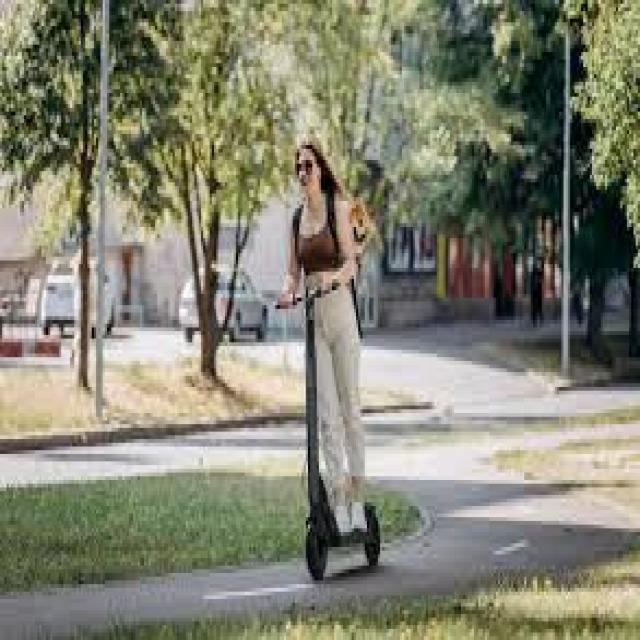non-helmet: (261, 123, 392, 589)
